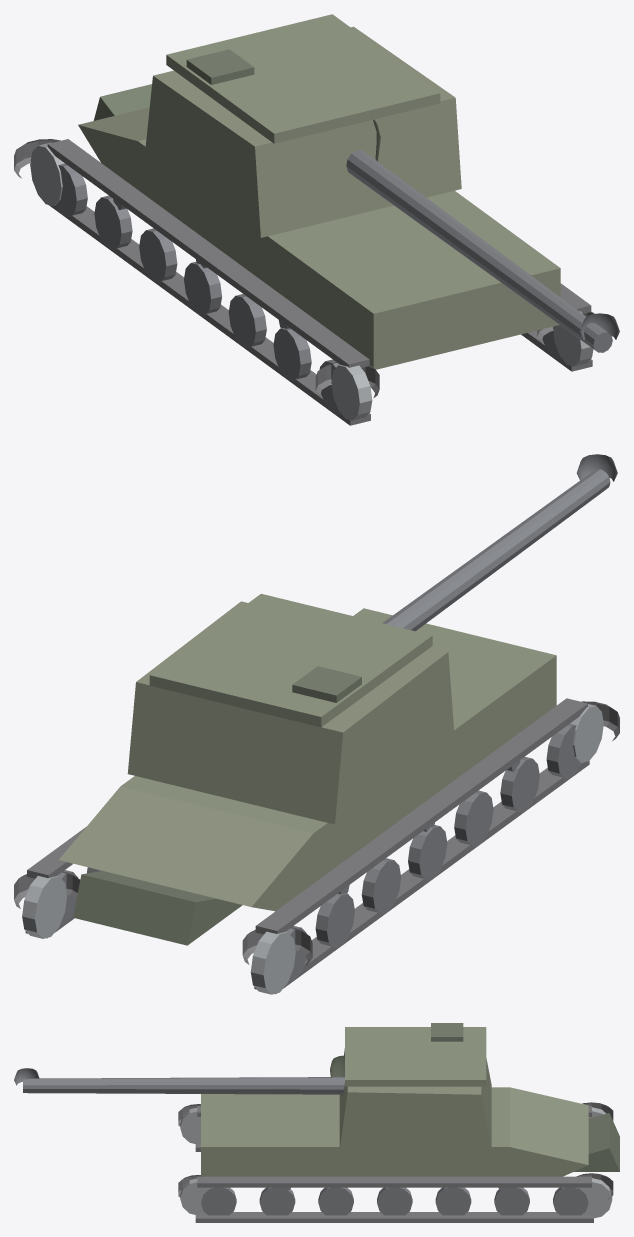
File: self-propelled-gun.glb
3 renders of one model, top to bottom at view 1: azimuth 30°, elevation 25°; view 2: azimuth 150°, elevation 25°; view 3: azimuth 270°, elevation 25°, orthographic. The views are drawn at different scales.
Visible parts, largest first — view 1: self-propelled-gun, turret (×3); view 2: self-propelled-gun, turret (×3); view 3: self-propelled-gun, turret (×3).
Boxes of the visible parts, left/top/right/bottom form: self-propelled-gun: left=14, top=84, right=594, bottom=425; turret (×3): left=145, top=14, right=619, bottom=352; self-propelled-gun: left=14, top=608, right=619, bottom=994; turret (×3): left=127, top=454, right=617, bottom=824; self-propelled-gun: left=178, top=1087, right=619, bottom=1222; turret (×3): left=14, top=1023, right=491, bottom=1149.
Size of the model in its own units: 4.05 by 2.85 by 11.57.
